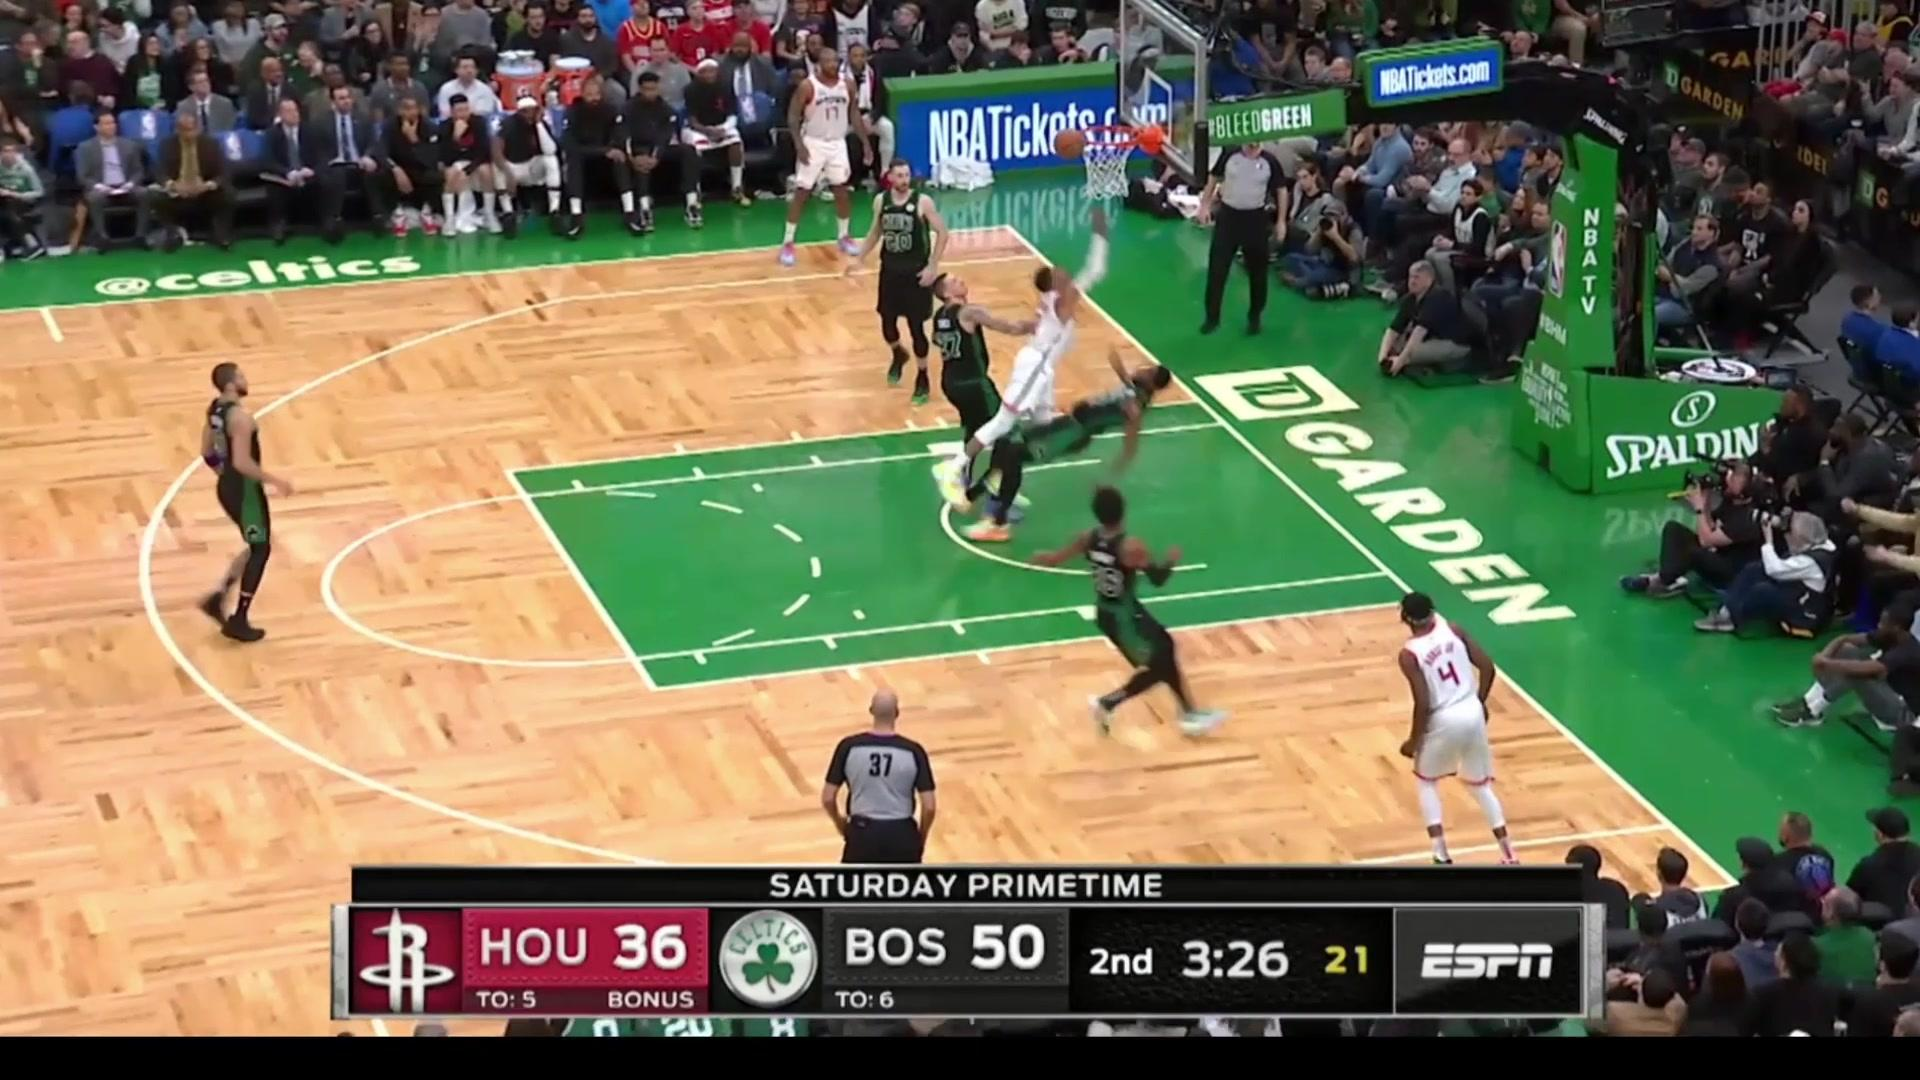foul: (1004, 247, 1178, 481)
